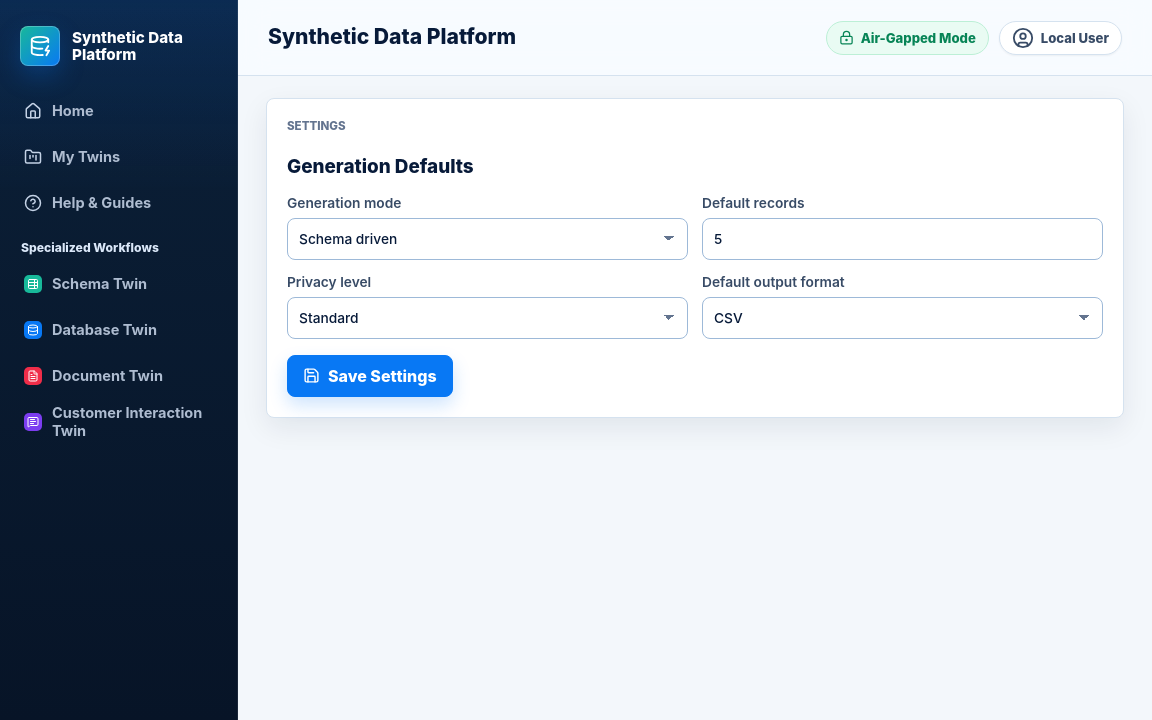
Test: Synthetic Data Twin routed app › fetches and saves settings
The width and height of the screenshot is (1152, 720).
Replace the text in the number field labelled "Default records" with "25". click: (902, 239)
box: [702,218,1103,260]
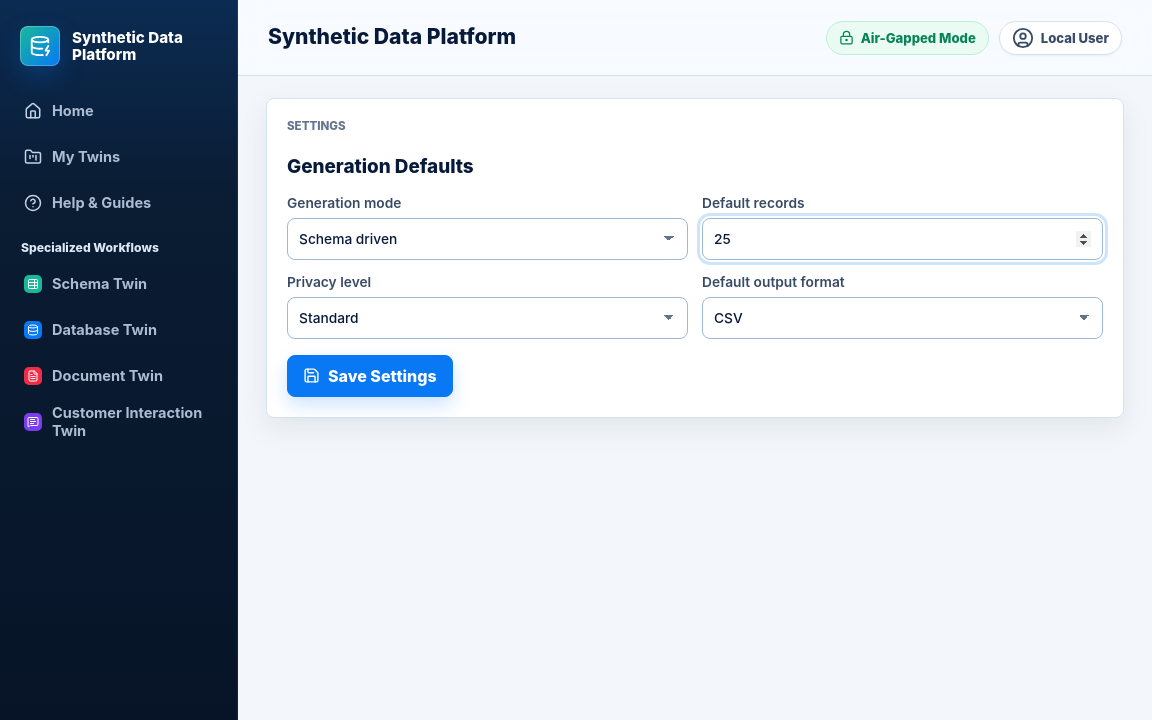
Select "Hybrid" in the dropdown labelled "Generation mode". click: (488, 239)
box: [287,218,688,260]
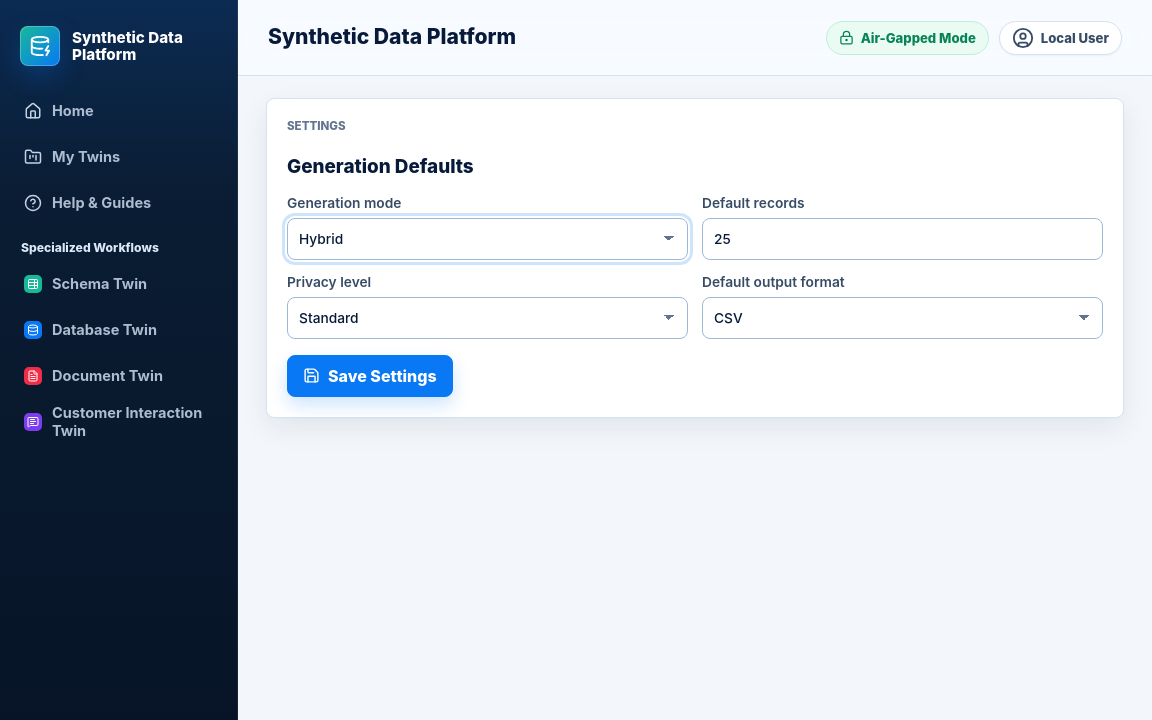
Select "Strict" in the dropdown labelled "Privacy level". click: (488, 318)
box: [287,297,688,339]
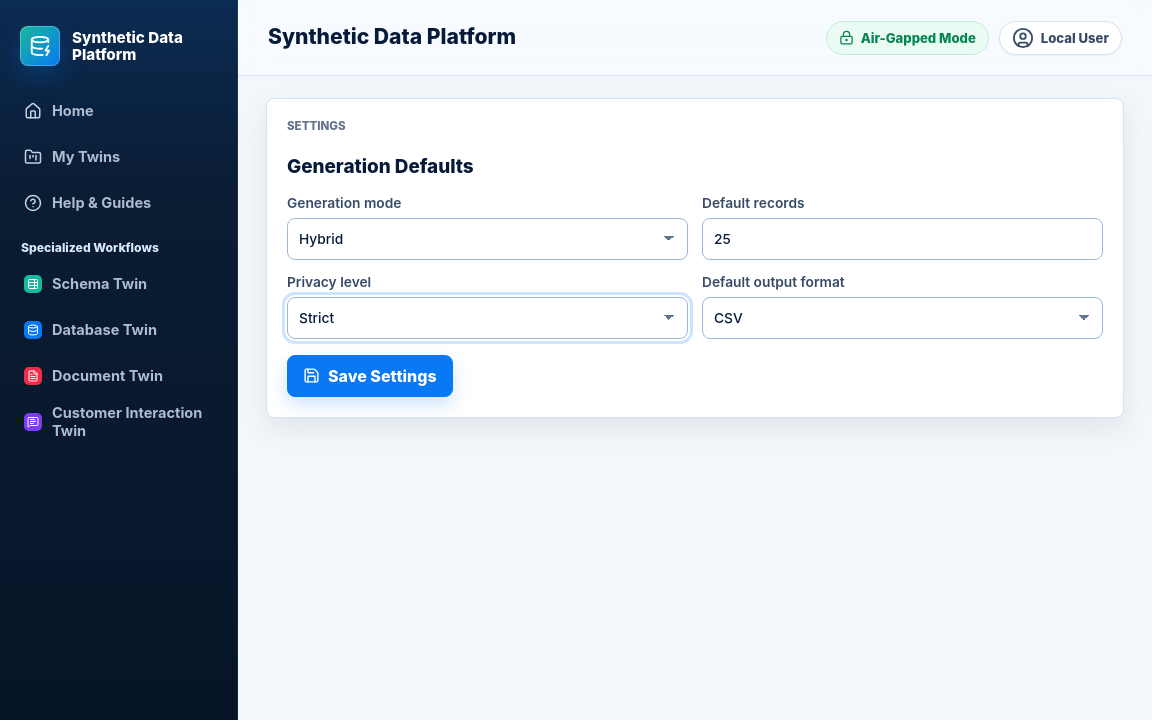
Select "Parquet" in the dropdown labelled "Default output format". click: (902, 318)
box: [702,297,1103,339]
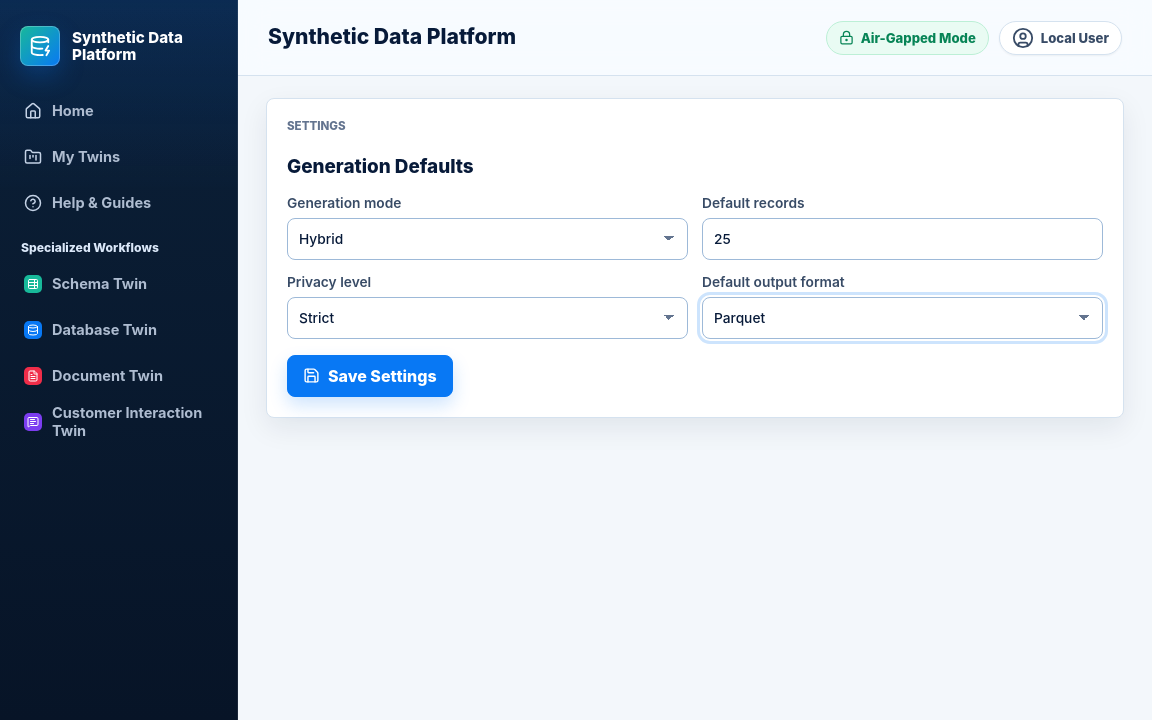
Click the button "Save Settings". click: (370, 376)
box: [287,355,453,397]
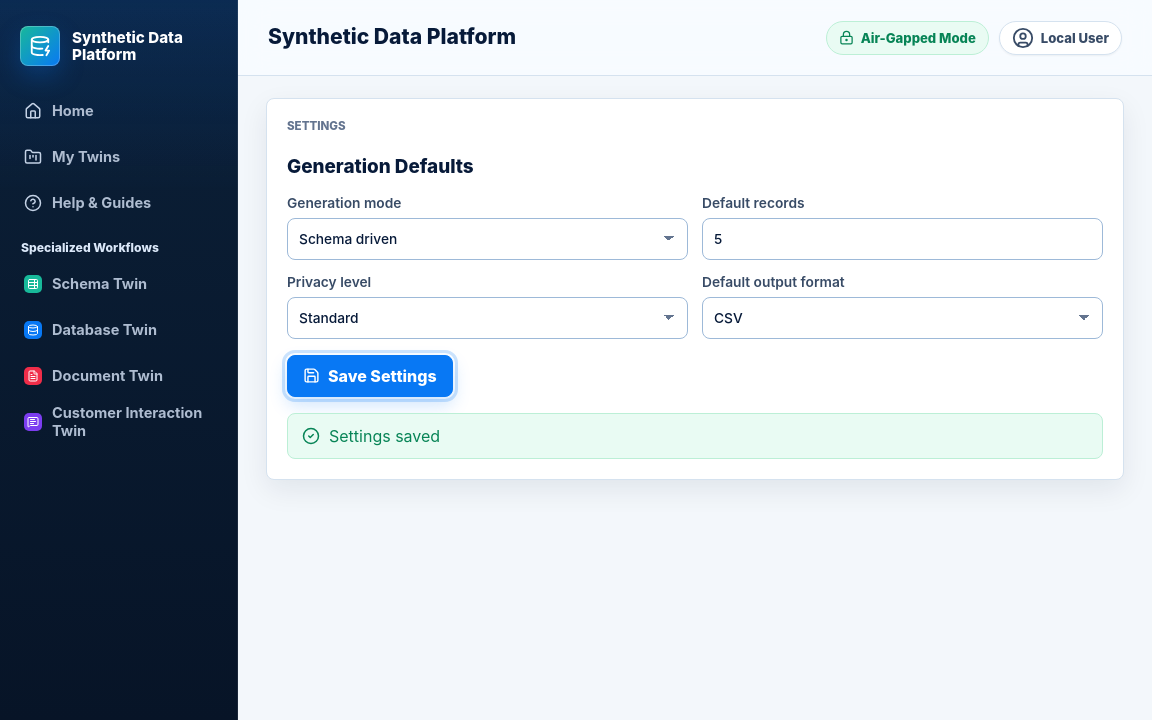
Result: the text "Settings saved" is shown at [329,426,440,446]
